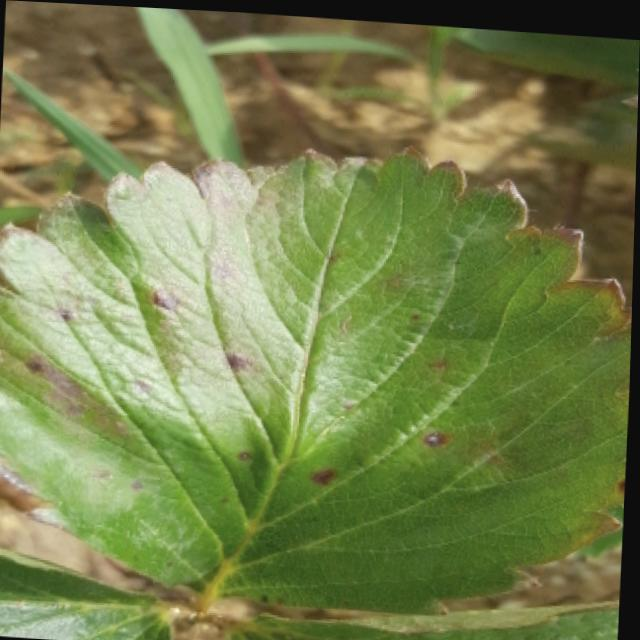Leaf Spot: (0, 137, 634, 610), (223, 590, 623, 640)
